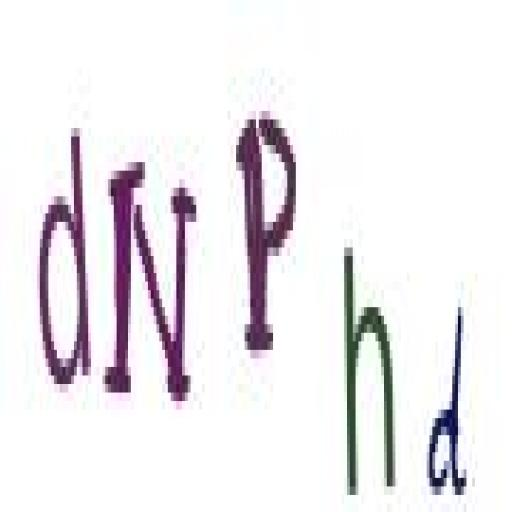N: (101, 156, 198, 413)
P: (230, 101, 301, 364)
d: (31, 119, 97, 394), (420, 278, 476, 502)
h: (337, 229, 398, 501)
